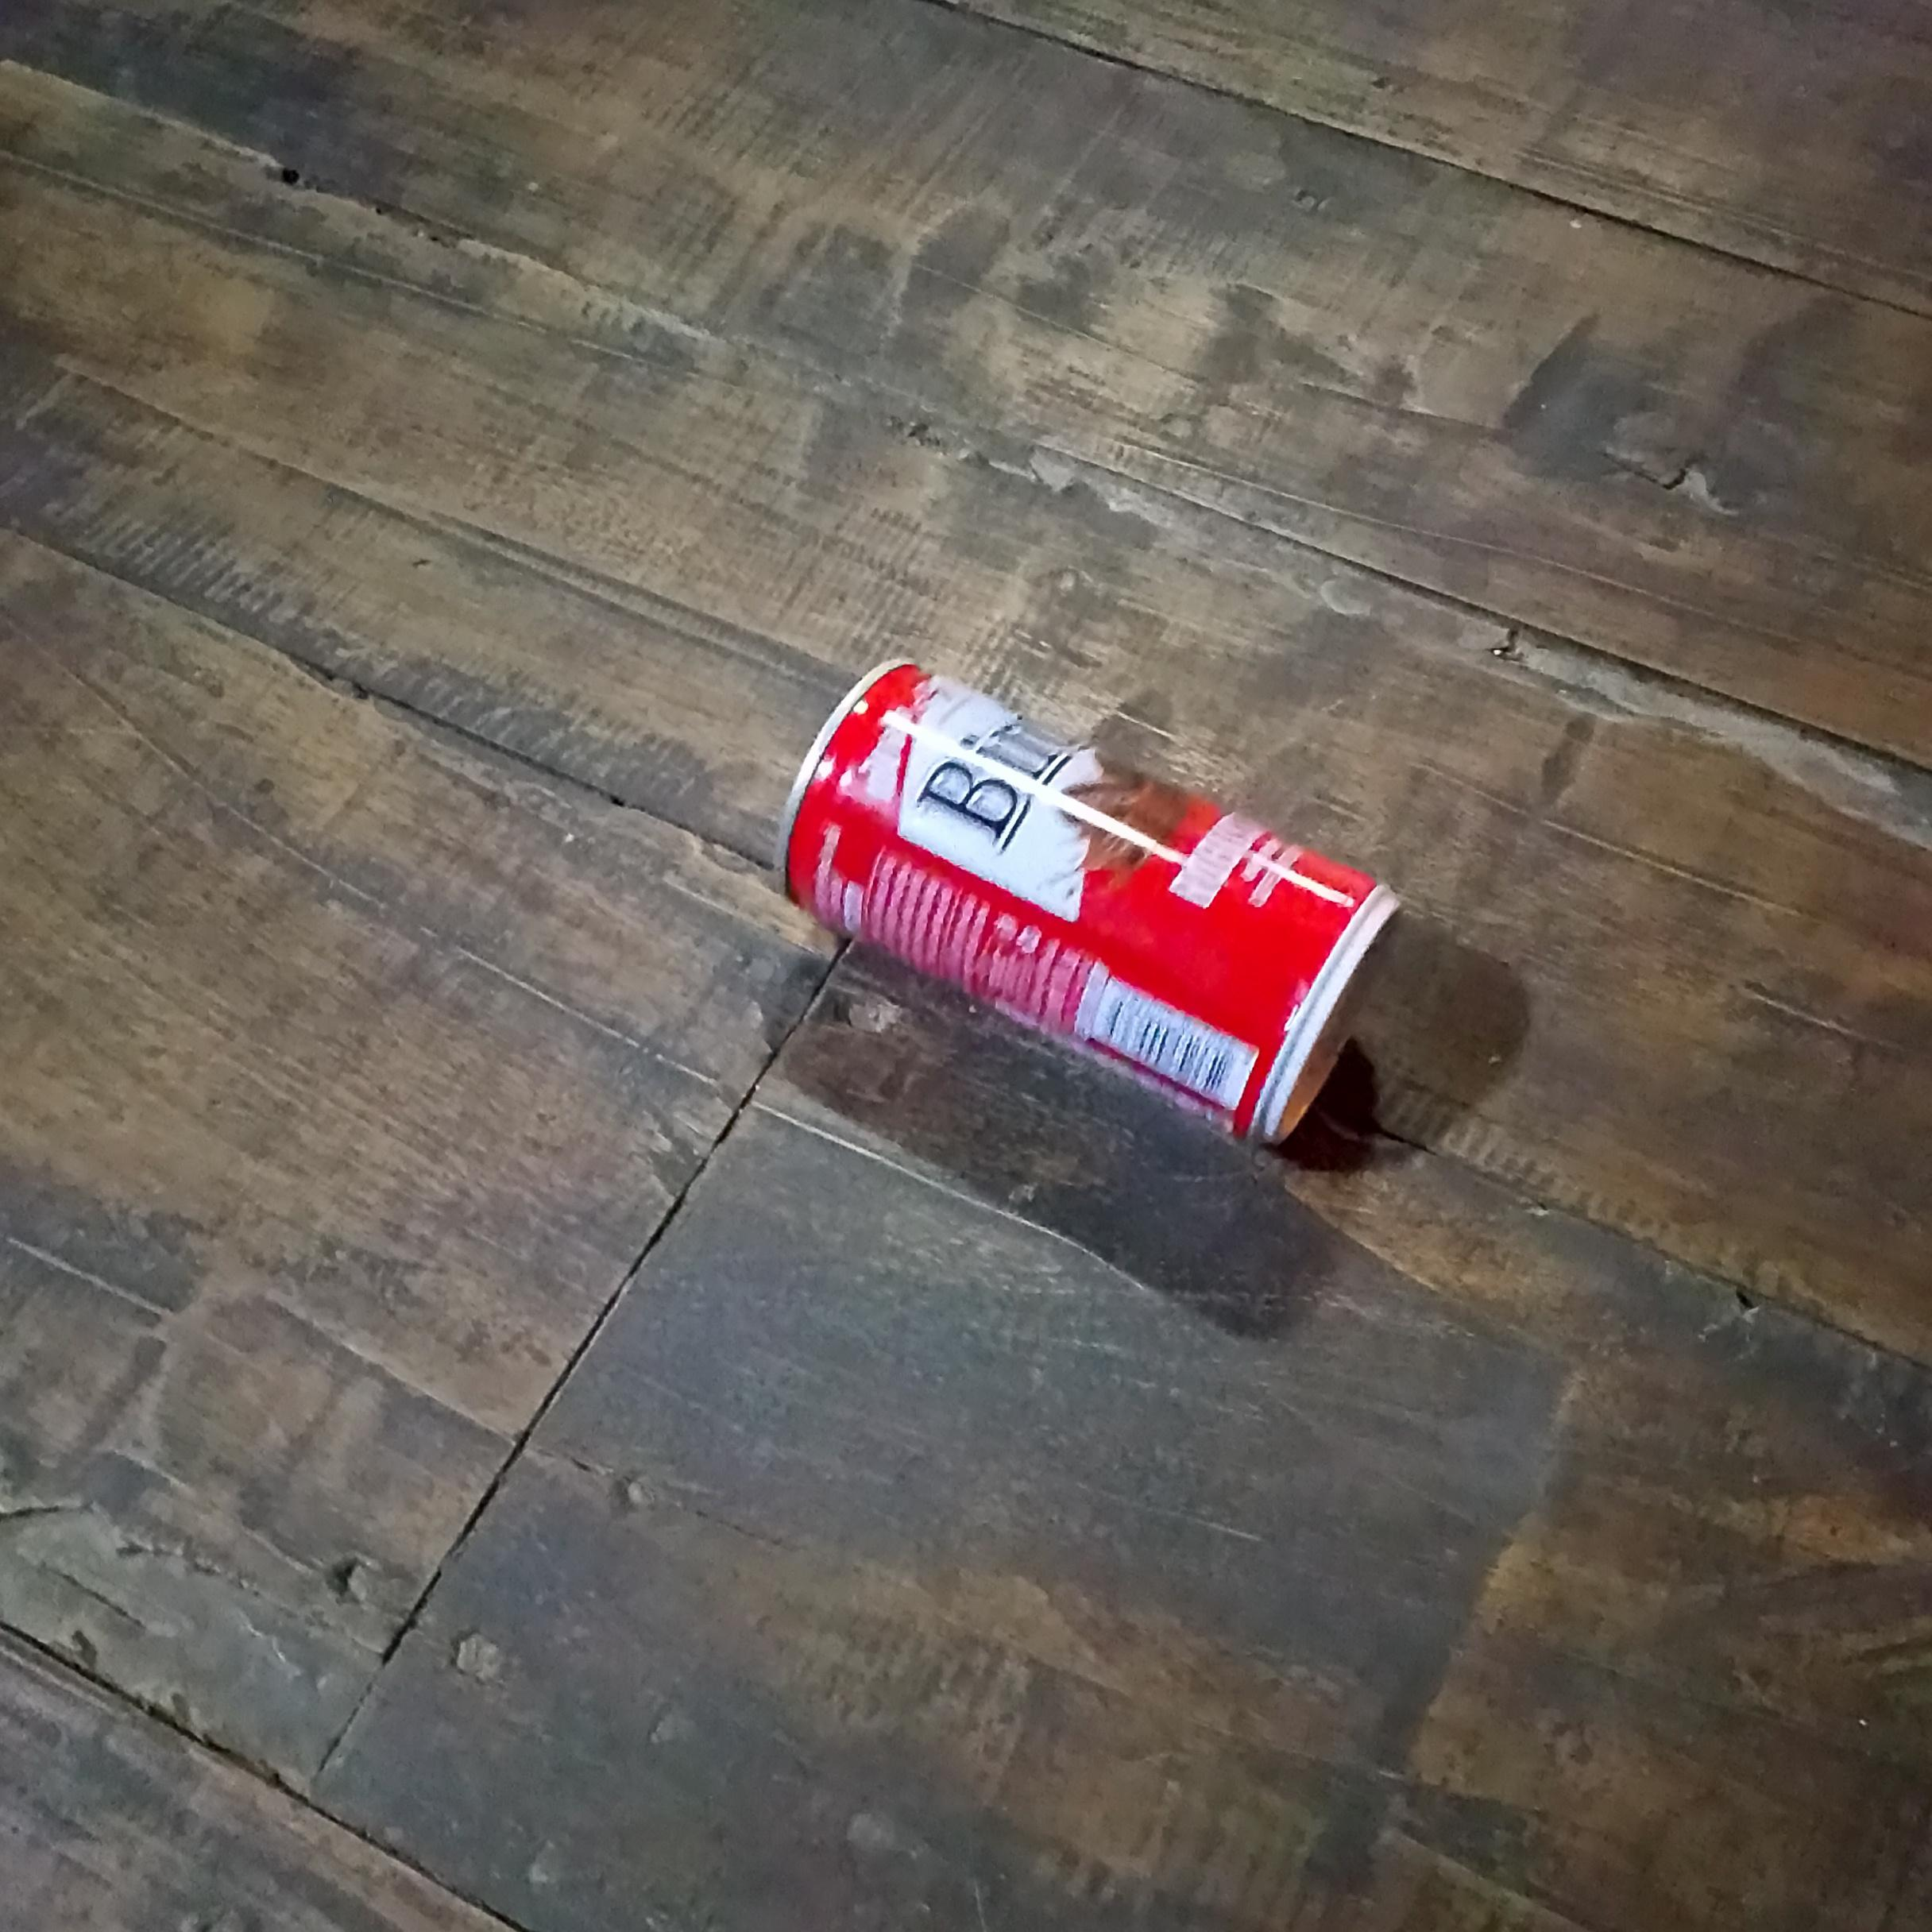can: (778, 663, 1394, 1139)
